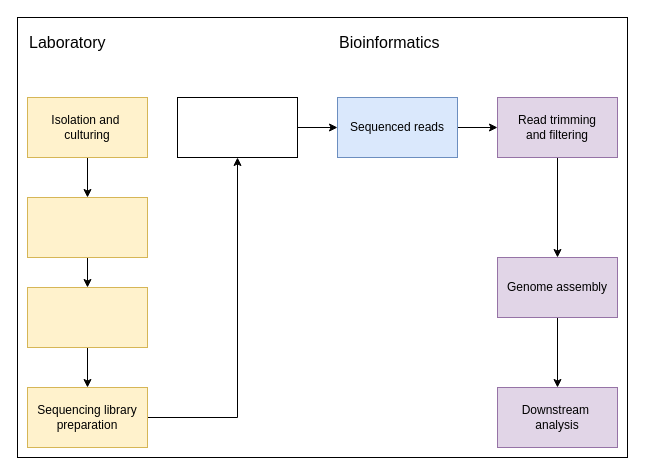
The diagram is 645 pixels wide and 475 high, and some of its shapes have lost their labels. The shapes that lost their labels are listed below. From the top down, each one's centre as x and y in pixels, then its label:
At (x=237, y=127): "Genome Sequencing (on an instrument)".
At (x=87, y=227): "DNA extraction".
At (x=87, y=317): "DNA quantification and normalisation".
